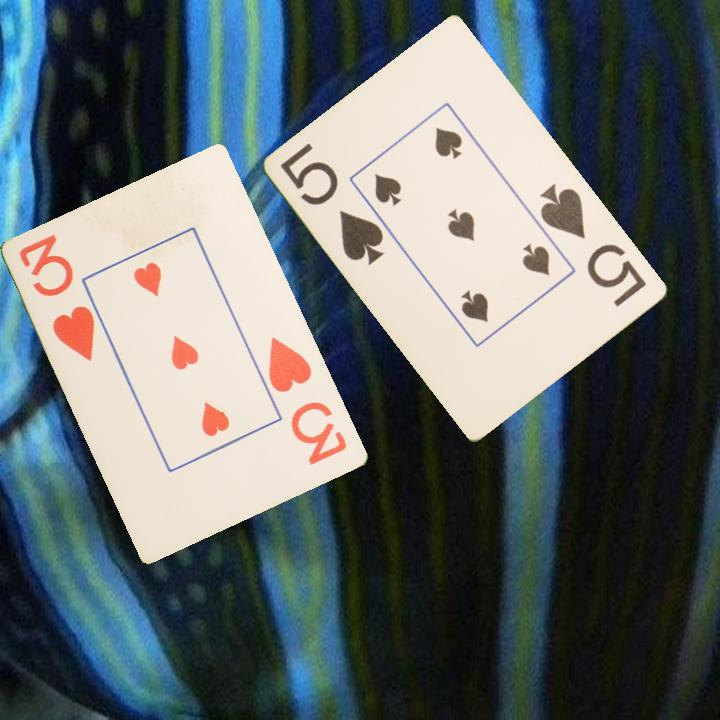3h: (265, 333, 351, 468), (16, 231, 99, 365)
5s: (537, 180, 650, 310), (277, 139, 388, 268)
